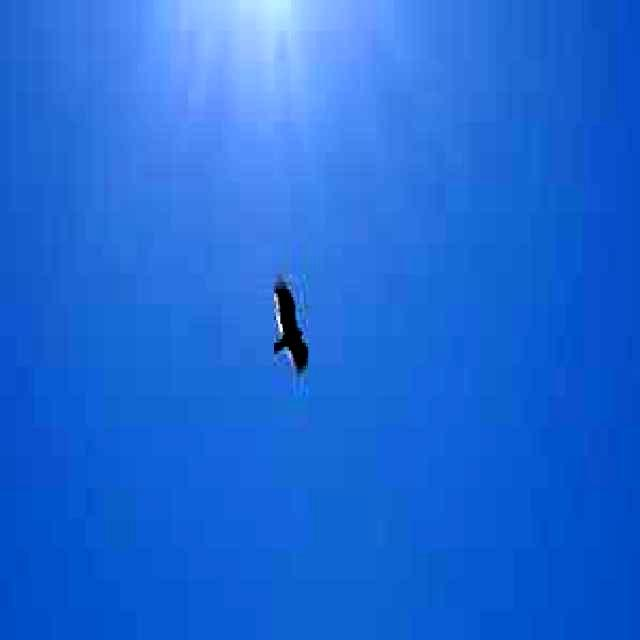bird: (267, 276, 312, 382)
